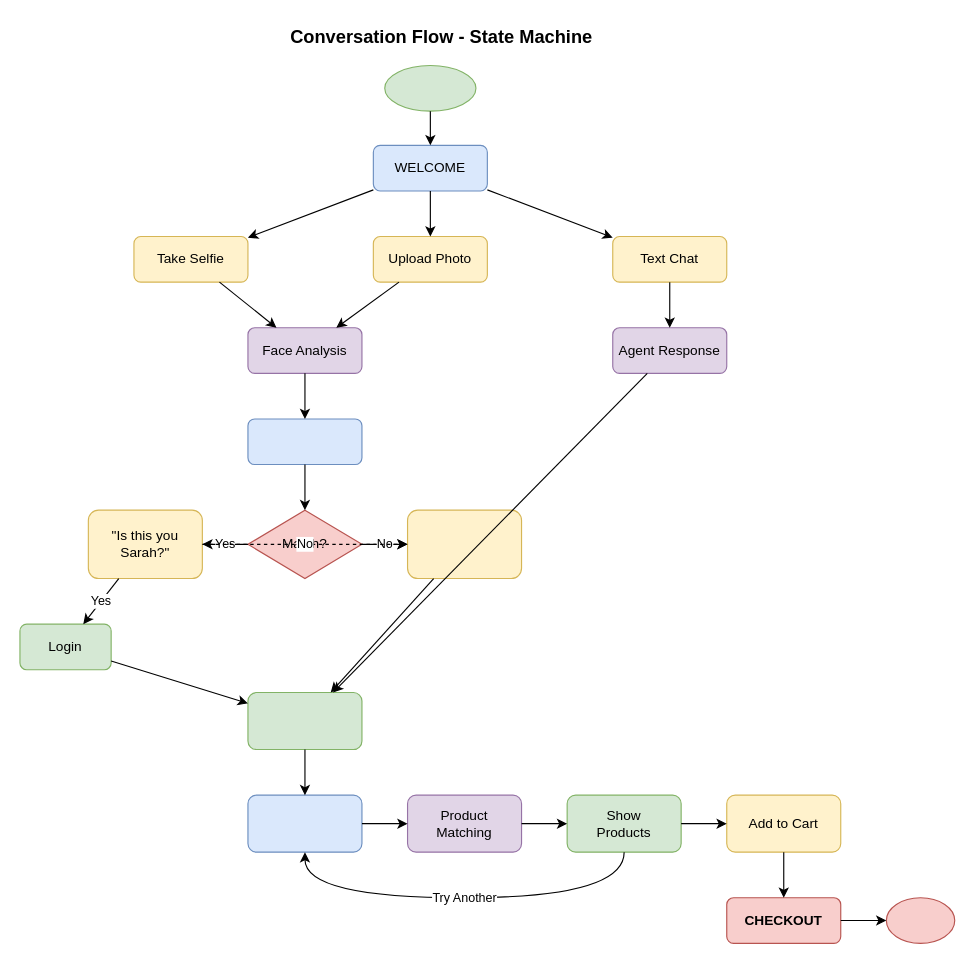
This 975x963 diagram has some shape labels left out. The shapes that lost their labels are listed below. From the top down, each one's centre as x and y in pixels, then its label:
pixel 430 87: START
pixel 304 441: Identity Check
pixel 464 544: New Customer Flow
pixel 304 720: Show Analysis Results
pixel 304 823: Category Select
pixel 920 920: END
